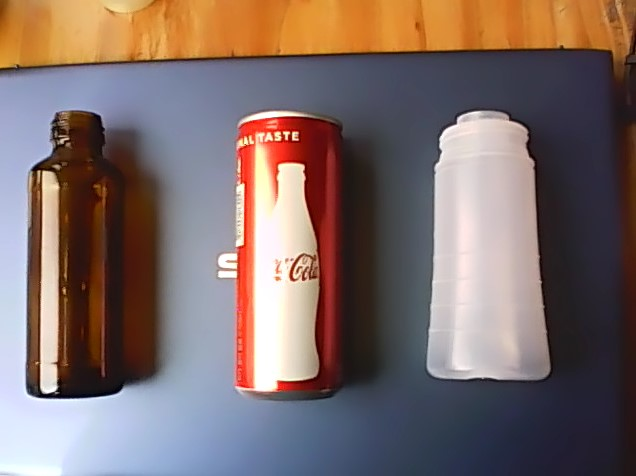Can: (229, 108, 349, 405)
Glass: (23, 106, 125, 403)
Plastic: (417, 105, 555, 388)
